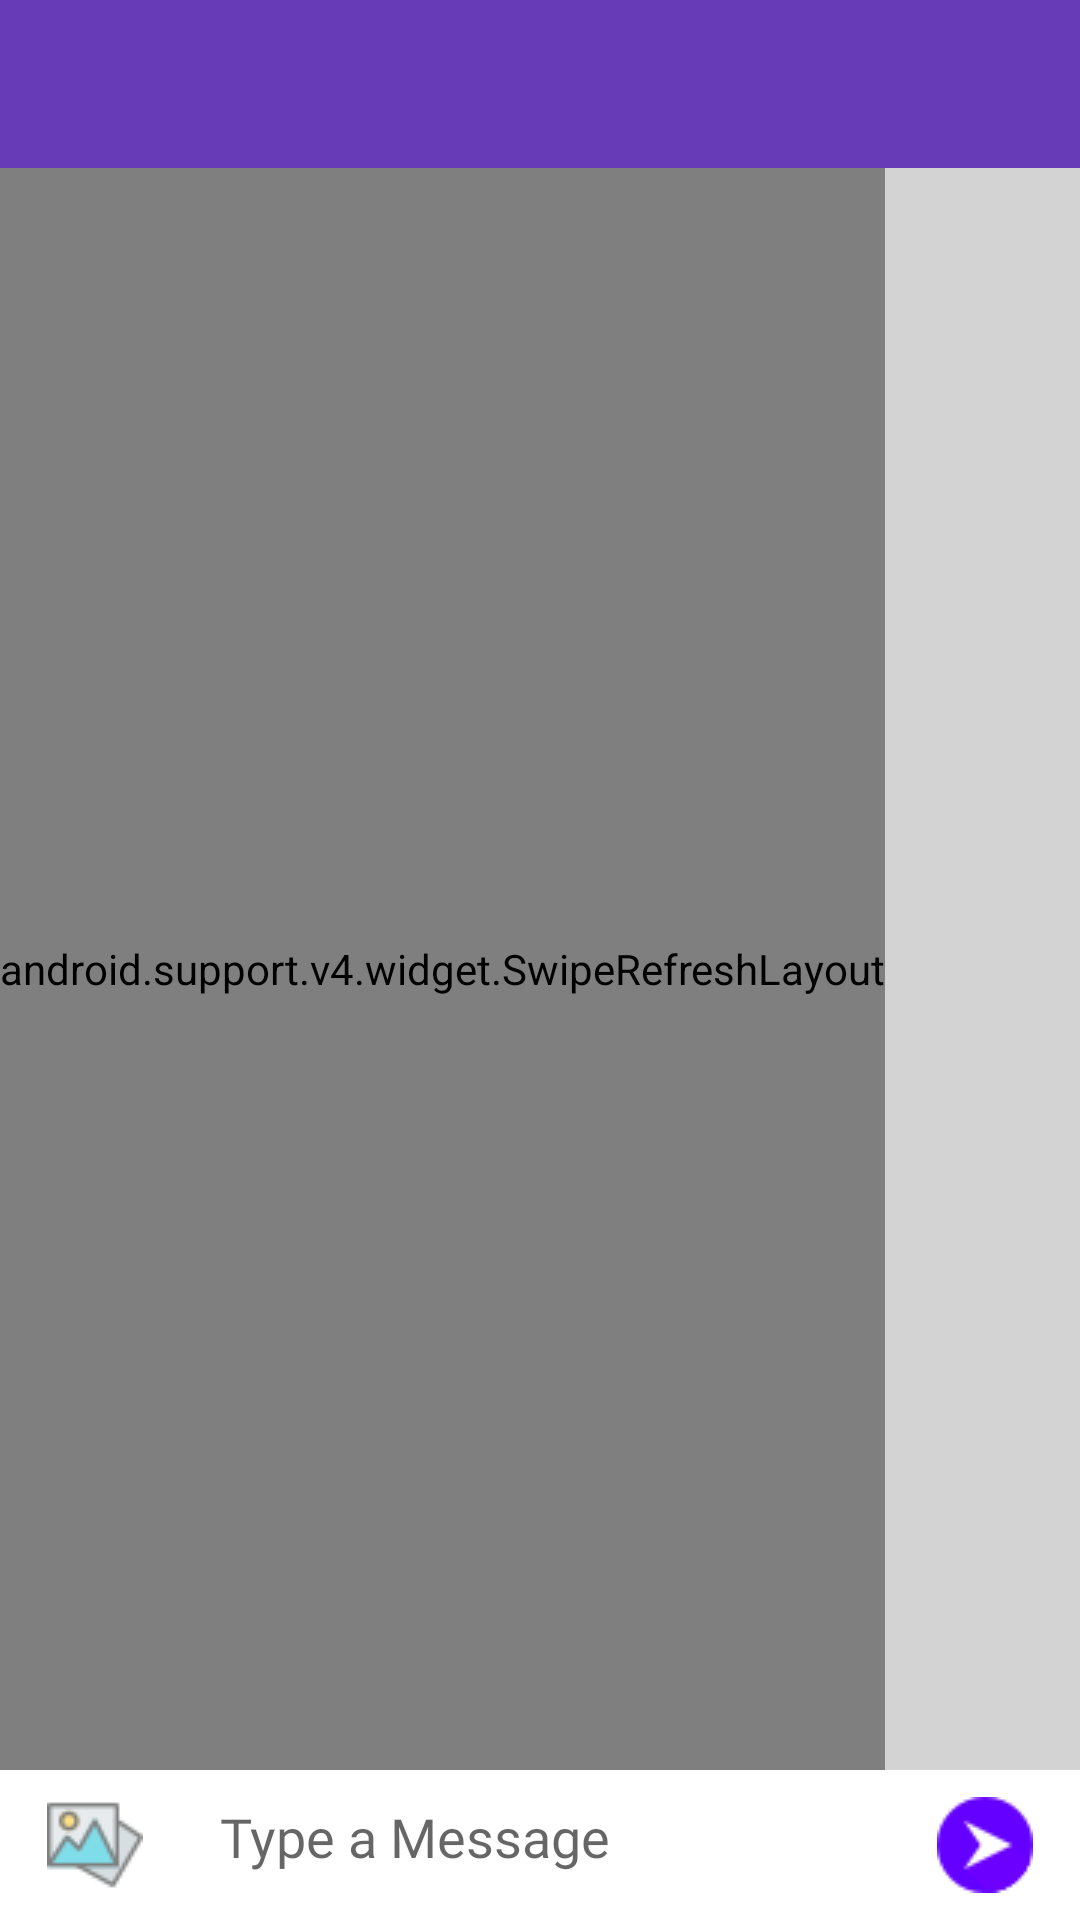

Locate icon controls on the screen. Image size 1080 × 1920, boxes as (x1, y1, x2, y2).
add media: (47, 1802, 143, 1888)
send chat: (937, 1797, 1033, 1893)
